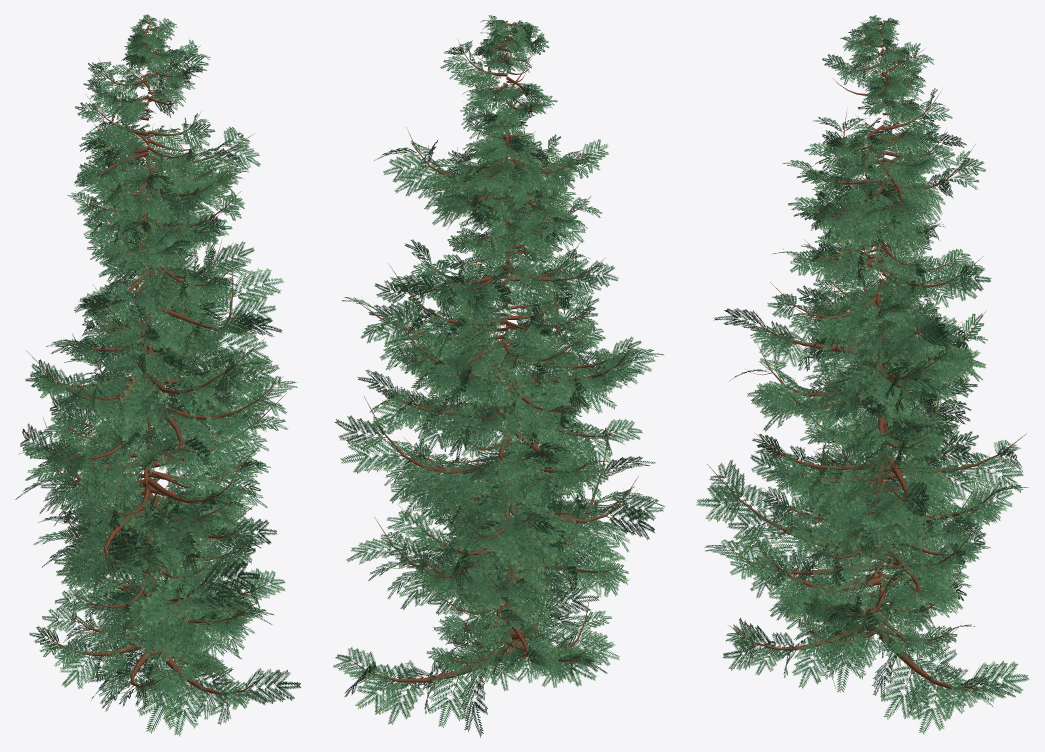
The model's file is forest-redwood-lod0.glb.
The picture shows the model from 3 angles, left to right: view 1: azimuth 30°, elevation 25°; view 2: azimuth 150°, elevation 25°; view 3: azimuth 270°, elevation 25°; orthographic projection. The views are drawn at different scales.
Visible parts, largest first — view 1: redwood-crown; view 2: redwood-crown; view 3: redwood-crown.
Boxes of the visible parts, box(x1,y1,x2,y2) form: redwood-crown: box(15, 14, 301, 736); redwood-crown: box(333, 15, 664, 737); redwood-crown: box(696, 15, 1029, 734).
Size of the model in its own units: 19.76 by 45.59 by 20.64.
Materials: 7 (3 with a texture image).
